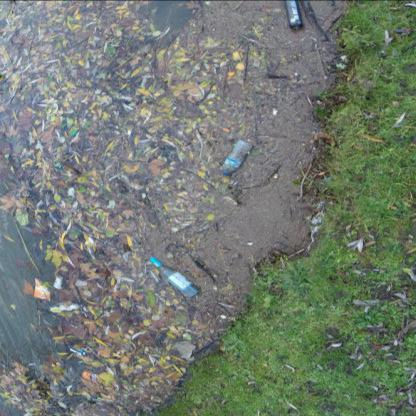Bottle cap: (149, 256, 202, 298), (223, 140, 252, 176)
Can: (282, 0, 302, 30)
Other plastic: (223, 128, 230, 132), (71, 130, 76, 135), (58, 166, 61, 168)
Plastic bag - wrapper: (34, 278, 51, 302), (82, 369, 102, 383), (68, 344, 88, 356)
Unlabeled litter: (50, 304, 80, 312), (53, 275, 64, 289), (84, 117, 89, 124)
